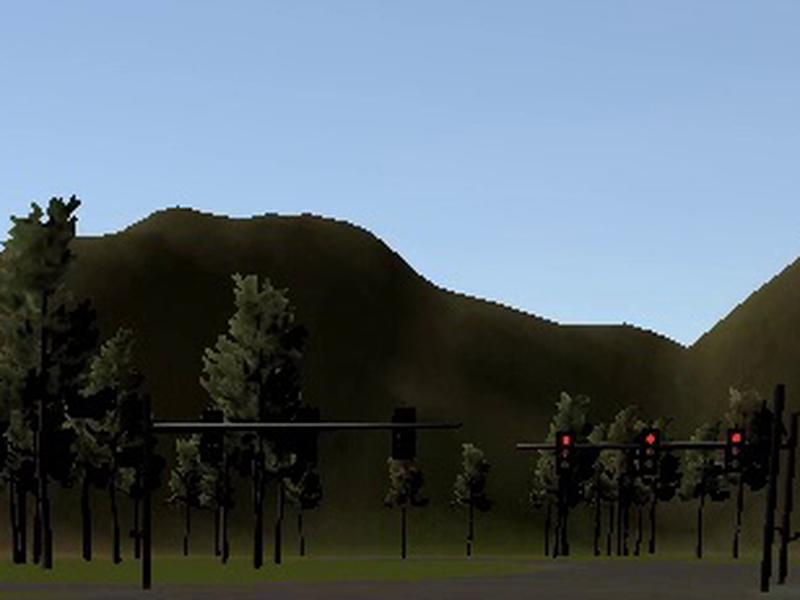Red: (725, 428, 746, 473), (639, 429, 659, 475), (554, 431, 574, 475)
